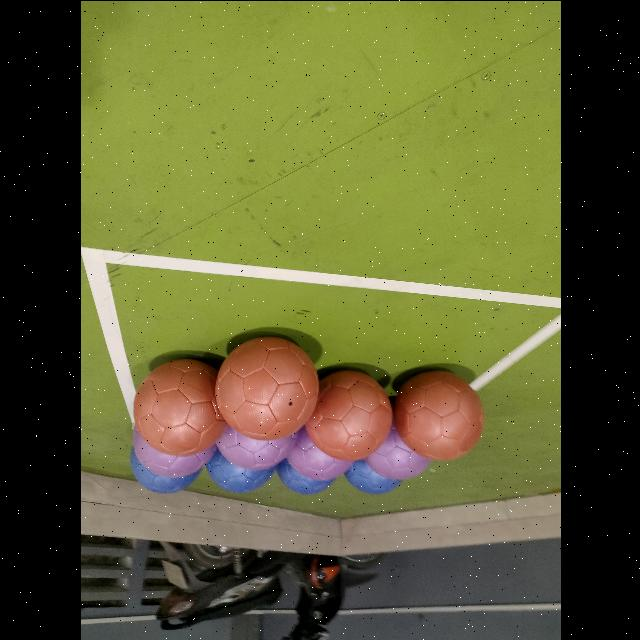B: (130, 446, 200, 492), (205, 448, 273, 492), (275, 458, 333, 494), (344, 459, 401, 493)
P: (131, 429, 215, 477), (285, 426, 353, 480), (364, 425, 430, 479)
R: (215, 336, 317, 439), (131, 356, 227, 454), (393, 370, 483, 460), (303, 372, 389, 458)
